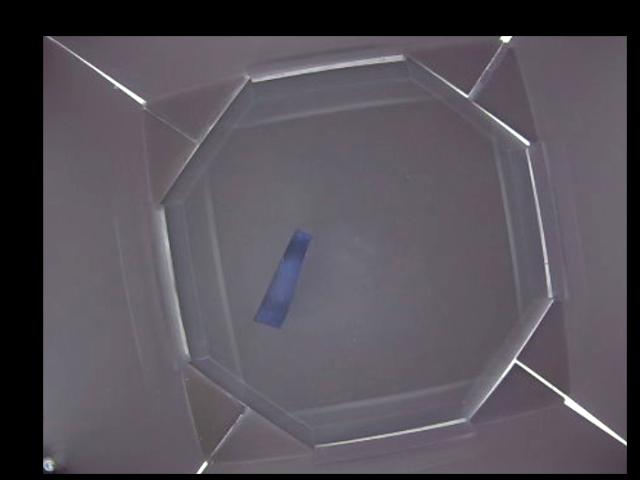Mooli: (252, 231, 312, 331)
